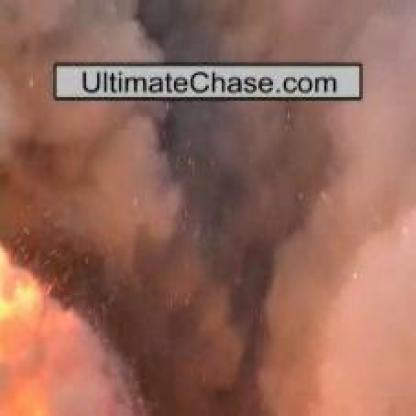smoke: (27, 19, 404, 399)
